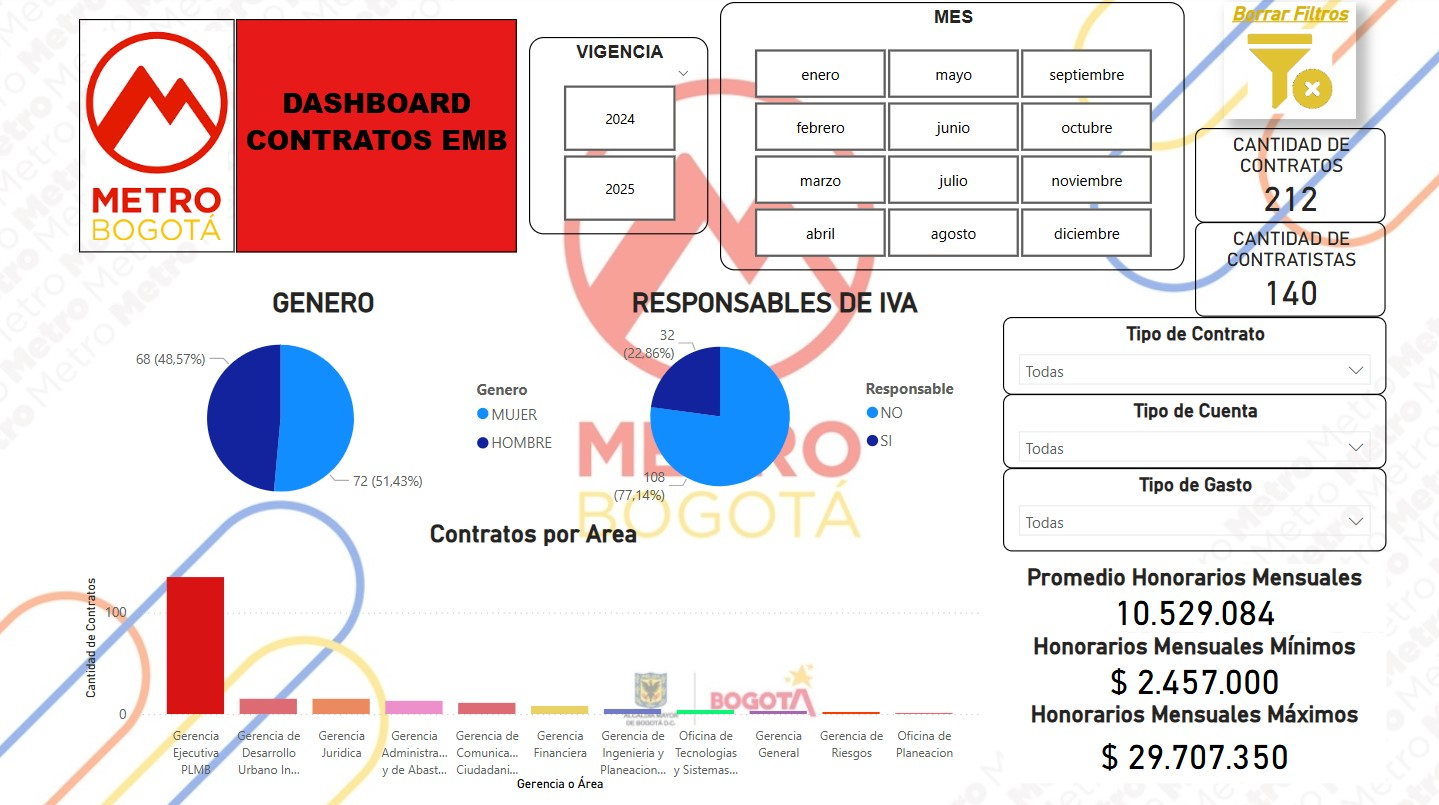

The page's visual inventory and layout, read from the dashboard file:
{"tool":"powerbi","page":{"name":"Resumen","canvas":[1280,720],"ordinal":0},"visuals":[{"type":"slicer","title":"VIGENCIA","fields":{"Values":["FACT_CONTRATOS.AñoInicio"]},"box":[470.7,36.3,159.2,175.4],"z":0},{"type":"card","title":"CANTIDAD DE CONTRATOS","fields":{"Values":["Count(DIM_Contratos.NUM_CONTRATO)"]},"box":[1061.3,116.9,169.3,83.7],"z":1000},{"type":"card","title":"CANTIDAD DE CONTRATISTAS","fields":{"Values":["Count(DIM_Contratos.ID_CONTRATISTA)"]},"box":[1061.3,200.6,169.3,83.7],"z":2000},{"type":"slicer","title":"Tipo de Contrato","fields":{"Values":["DIM_Tipo_Contrato.TIPO_CONTRATO"]},"box":[891,284.2,339.7,68.5],"z":3000},{"type":"slicer","title":"Tipo de Cuenta","fields":{"Values":["DIM_Tipo_Cuenta.Tipo_Cuenta"]},"box":[891,352.8,339.7,65.5],"z":4000},{"type":"slicer","title":"Tipo de Gasto","fields":{"Values":["DIM_Tipo_Gasto.Tipo_Gasto"]},"box":[891,418.3,339.7,73.6],"z":5000},{"type":"pieChart","title":"GENERO","fields":{"Category":["DIM_Genero.GENERO"],"Y":["CountNonNull(DIM_Contratistas.ID_CONTRATISTA)"]},"box":[71.6,258,433.4,205.6],"z":6000},{"type":"pieChart","title":"RESPONSABLES DE IVA","fields":{"Y":["CountNonNull(DIM_Contratistas.ID_CONTRATISTA)"],"Category":["DIM_IVA.IVA_SI_NO"]},"box":[506,258,364.9,202.6],"z":7000},{"type":"columnChart","title":"Contratos por Area","fields":{"Y":["CountNonNull(DIM_Contratos.NUM_CONTRATO)"],"Category":["DIM_Areas.GERENCIA_AREA"]},"box":[71.6,463.6,806.3,245.9],"z":8000},{"type":"image","box":[71.8,20.4,138.3,206.6],"z":9000},{"type":"textbox","box":[210.6,20.2,248.9,206.6],"z":10000},{"type":"slicer","title":"MES","fields":{"Values":["DIM_Fecha_Inicio.Fecha_Inicio.Variación.Jerarquía de fechas.Mes"]},"box":[640.2,5.3,412.3,237.6],"z":11000},{"type":"card","title":"Promedio Honorarios Mensuales","fields":{"Values":["Avg(DIM_Contratos.HONORARIOS_MENSUALES)"]},"box":[891,503.9,339.7,60.5],"z":12000},{"type":"card","title":"Honorarios Mensuales Mínimos","fields":{"Values":["Min(DIM_Contratos.HONORARIOS_MENSUALES)"]},"box":[891,564.4,339.7,60.5],"z":13000},{"type":"card","title":"Honorarios Mensuales Máximos","fields":{"Values":["Max(DIM_Contratos.HONORARIOS_MENSUALES)"]},"box":[891,624.9,339.7,72.6],"z":14000},{"type":"image","title":"Borrar Filtros","box":[1087.1,5.3,117,103.7],"z":15000}]}

Visuals, with their boxes in screenshot pixels (x1, y1, x2, y2), scaled from the page's 1280x720 canvas onto the 1439x805 screenshot:
"VIGENCIA" slicer: 529, 41, 708, 237
"CANTIDAD DE CONTRATOS" card: 1193, 131, 1383, 224
"CANTIDAD DE CONTRATISTAS" card: 1193, 224, 1383, 318
"Tipo de Contrato" slicer: 1002, 318, 1384, 394
"Tipo de Cuenta" slicer: 1002, 394, 1384, 468
"Tipo de Gasto" slicer: 1002, 468, 1384, 550
"GENERO" pieChart: 80, 288, 568, 518
"RESPONSABLES DE IVA" pieChart: 569, 288, 979, 515
"Contratos por Area" columnChart: 80, 518, 987, 793
image: 81, 23, 236, 254
textbox: 237, 23, 517, 254
"MES" slicer: 720, 6, 1183, 272
"Promedio Honorarios Mensuales" card: 1002, 563, 1384, 631
"Honorarios Mensuales Mínimos" card: 1002, 631, 1384, 699
"Honorarios Mensuales Máximos" card: 1002, 699, 1384, 780
"Borrar Filtros" image: 1222, 6, 1354, 122
